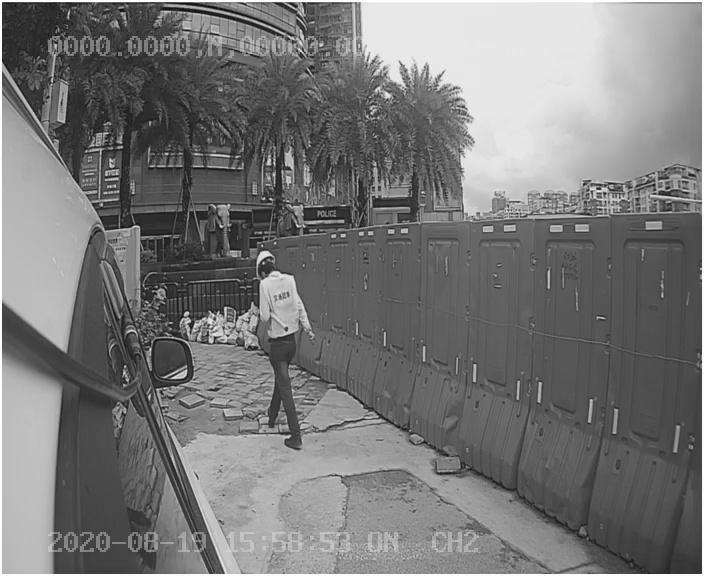person: (245, 246, 328, 452)
